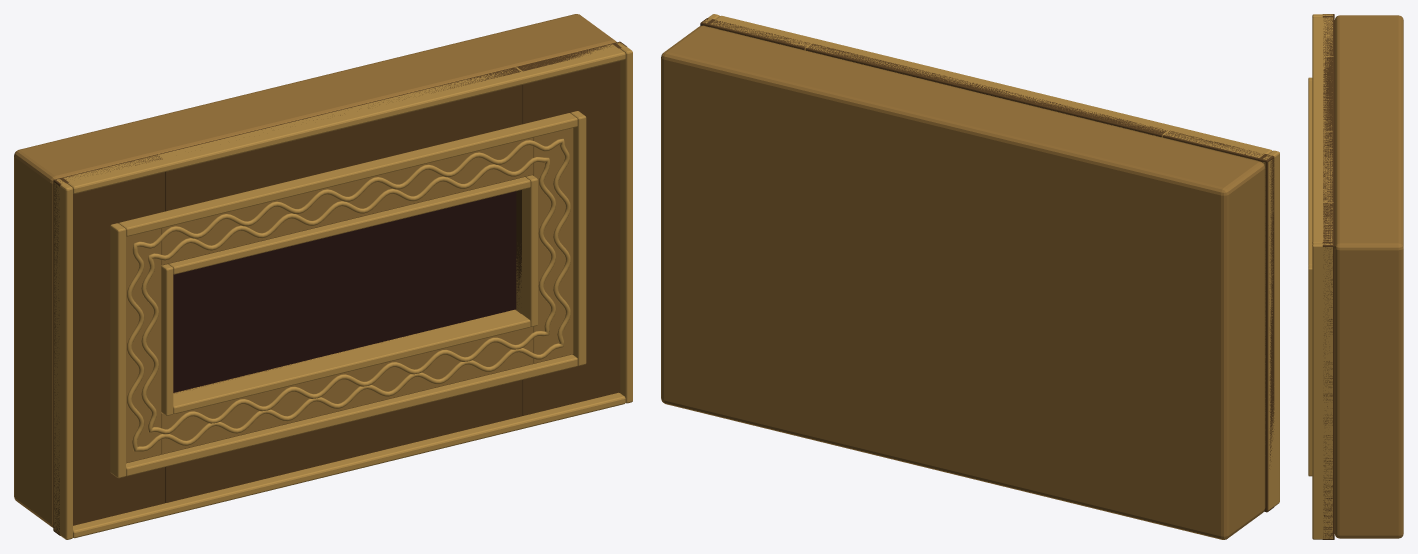
The model's file is NamePlate.fbx.
3 views of the same model, side by side, from view 1: azimuth 30°, elevation 25°; view 2: azimuth 150°, elevation 25°; view 3: azimuth 270°, elevation 25° (orthographic). The views are drawn at different scales.
Visible parts, largest first — view 1: PQ_Plate, PQ_WoodPanel, PQ_Body, PQ_Plateau, PQ_OuterLip, PQ_StepRing, PQ_InnerLip, PQ_WaveMoulding; view 2: PQ_Body, PQ_OuterLip, PQ_Plate; view 3: PQ_Body, PQ_OuterLip, PQ_Plate, PQ_StepRing.
Part boxes in pixels (x1,y1,x2,y2): PQ_Plate: (53,41,626,535); PQ_WoodPanel: (173,191,516,392); PQ_Body: (14,14,616,527); PQ_Plateau: (126,128,573,463); PQ_OuterLip: (54,42,632,539); PQ_StepRing: (110,111,586,478); PQ_InnerLip: (161,175,537,415); PQ_WaveMoulding: (127,138,570,451); PQ_Body: (661,25,1265,539); PQ_OuterLip: (701,14,1279,509); PQ_Plate: (700,18,1274,512); PQ_Body: (1334,15,1403,538); PQ_OuterLip: (1312,14,1333,539); PQ_Plate: (1322,14,1334,539); PQ_StepRing: (1308,77,1312,476).
Size of the model in its own units: 270 by 160 by 47.
